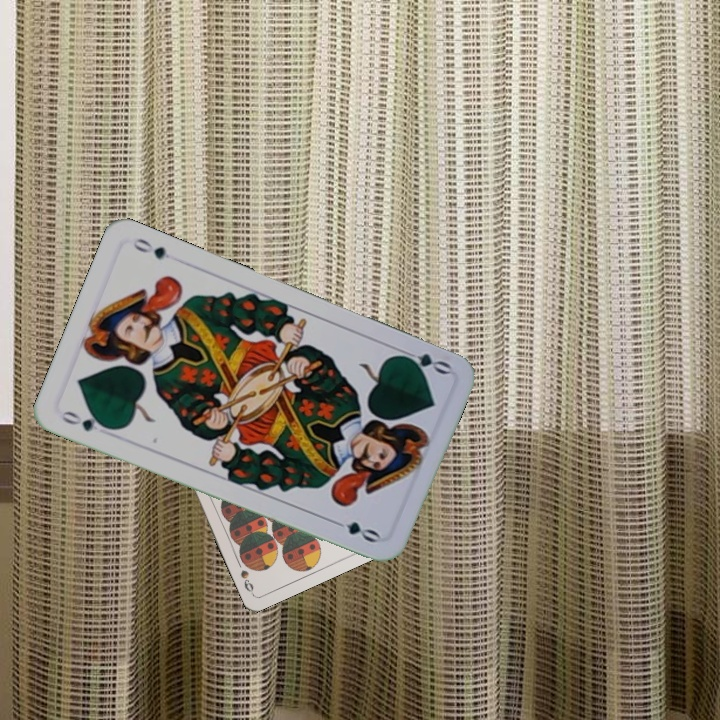GO: (394, 344, 453, 377), (57, 406, 115, 434)
